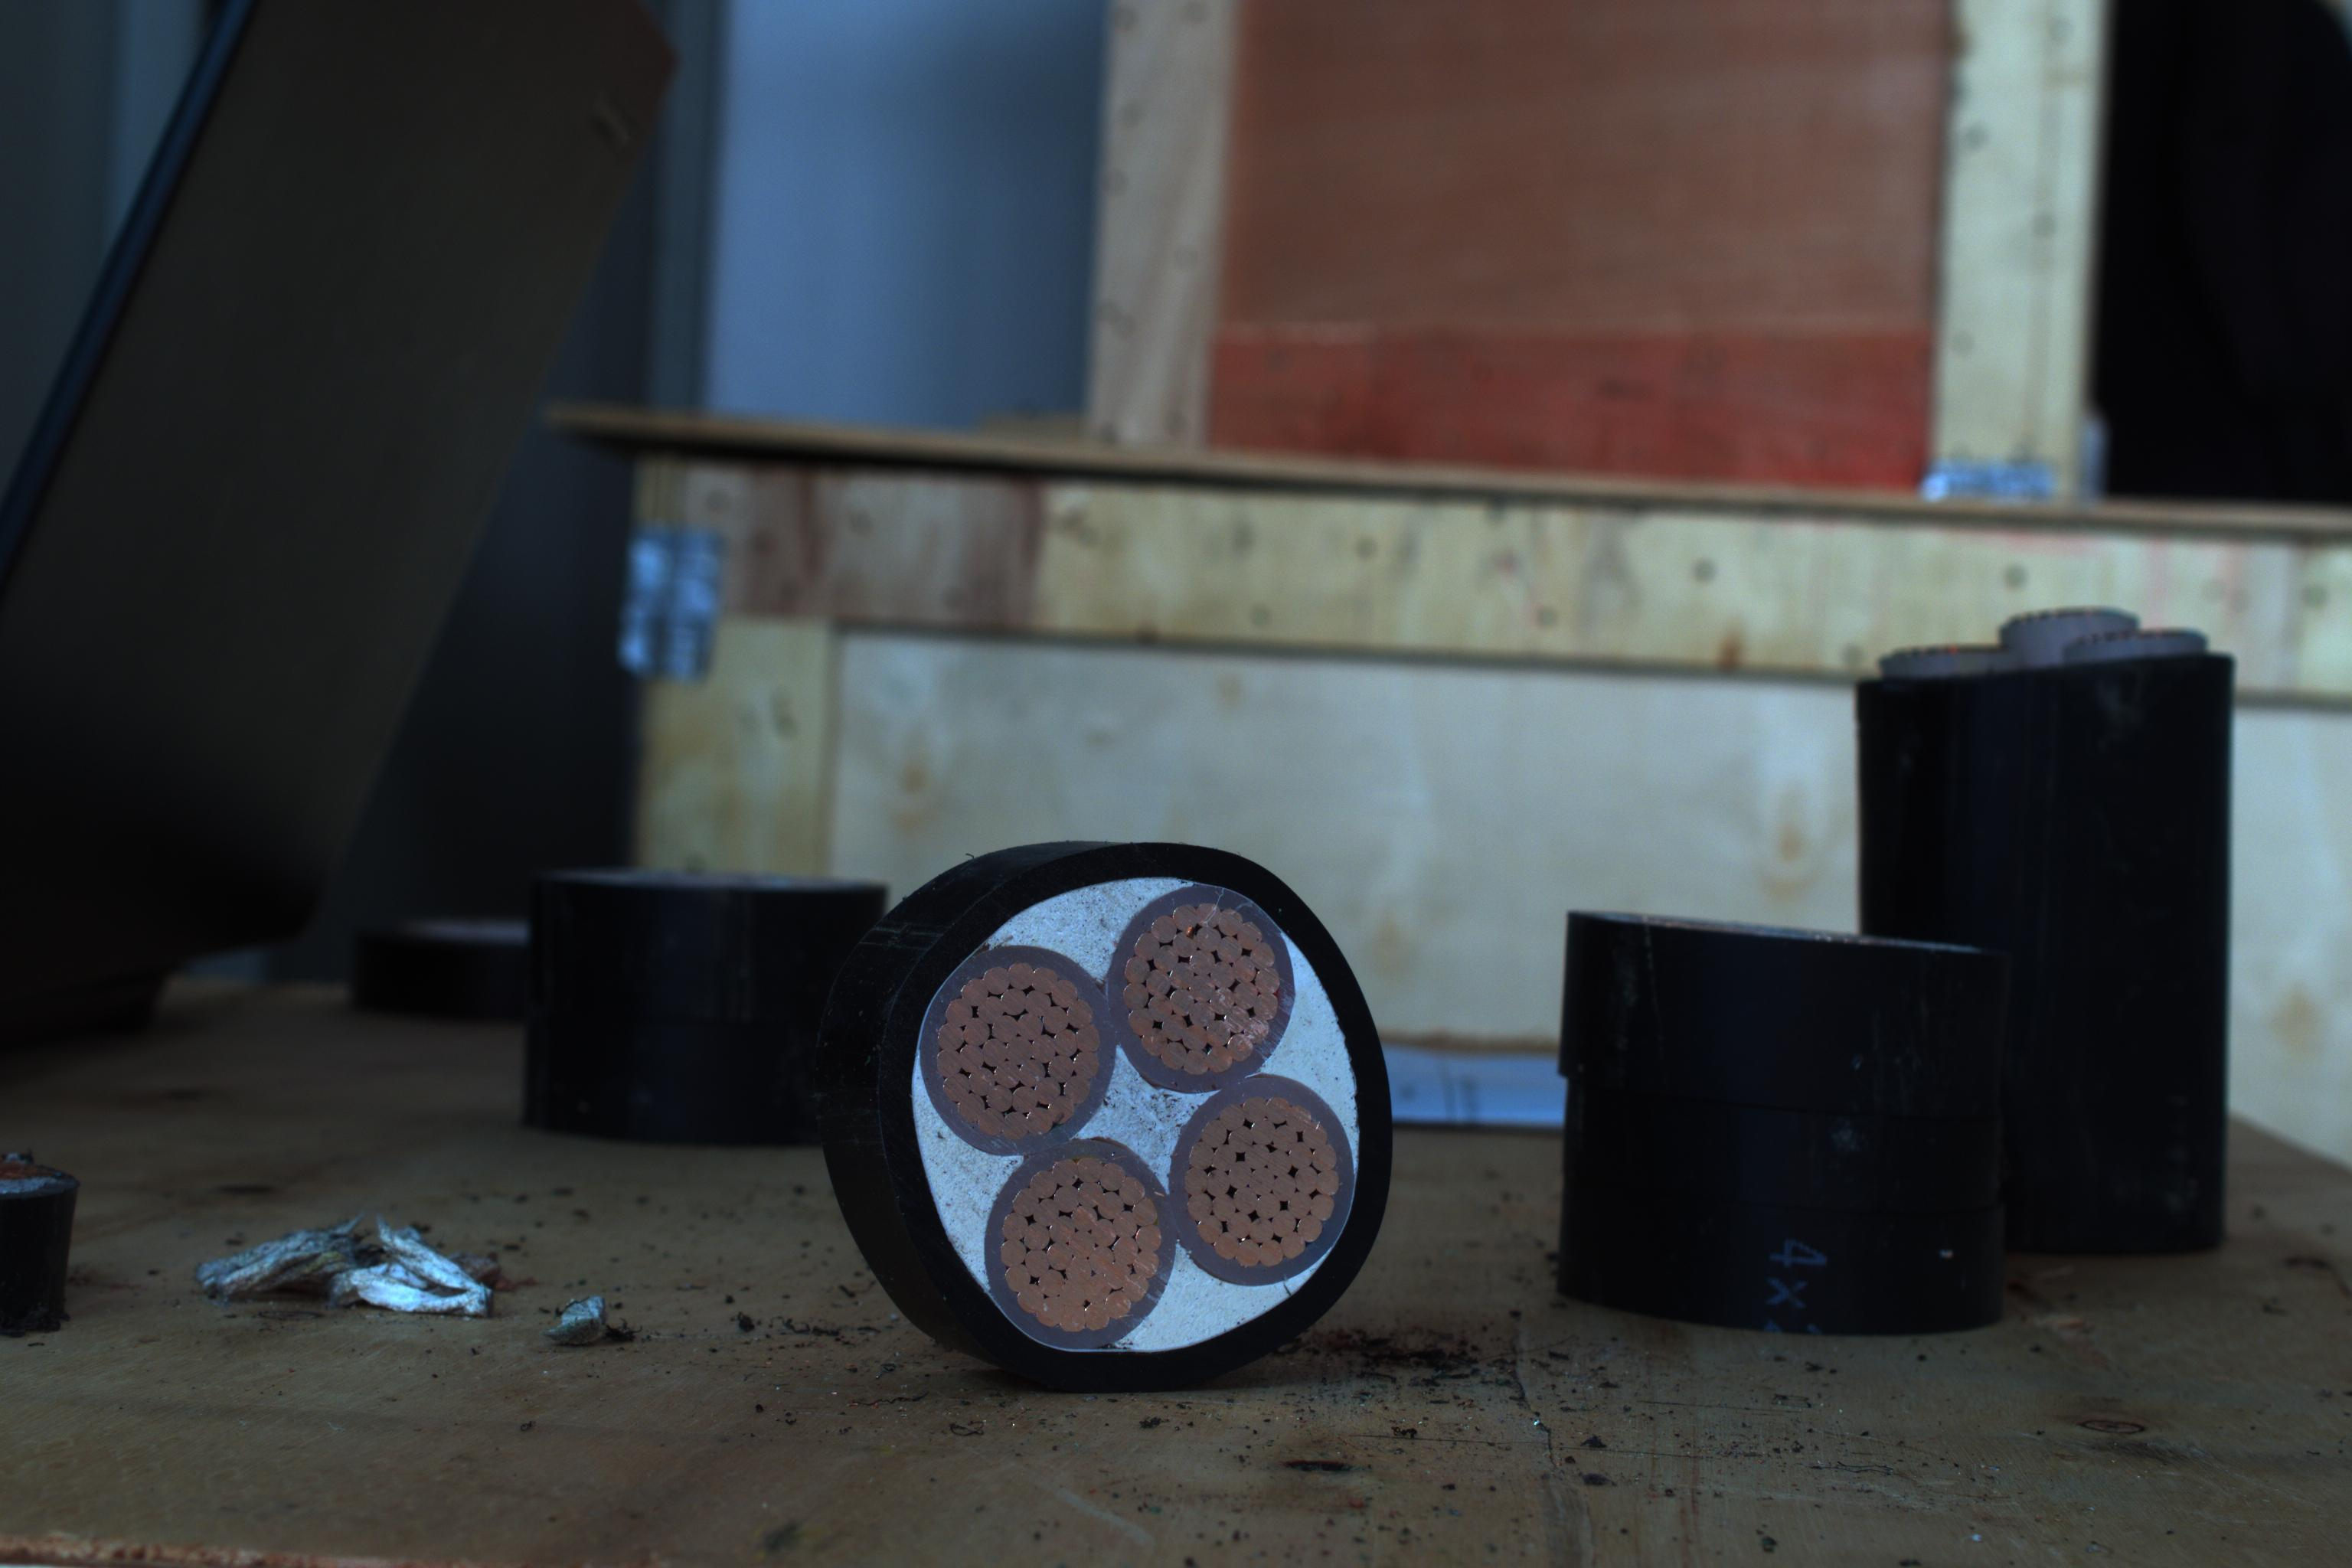YJV_0.6_1kV_4x240: (877, 856, 1416, 1381)
